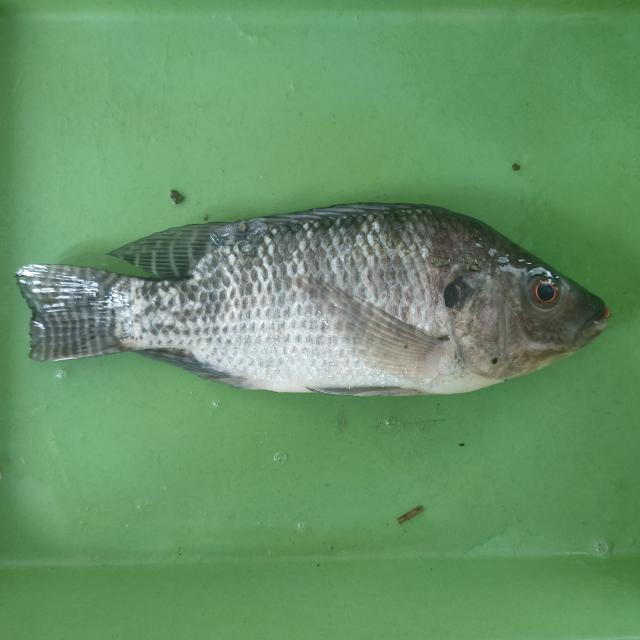Fresh: (29, 203, 475, 431), (487, 240, 592, 339)
